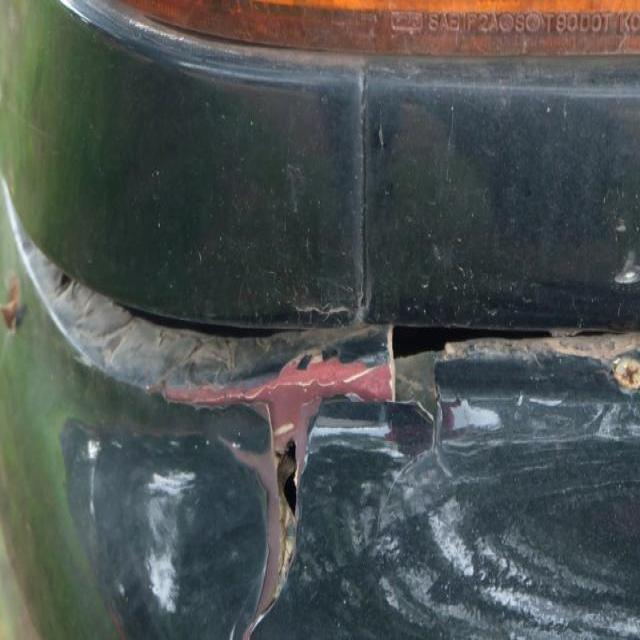Dent: (276, 294, 358, 326), (340, 362, 380, 382), (445, 99, 456, 166), (519, 345, 546, 368), (524, 394, 564, 405), (354, 281, 366, 316), (376, 122, 384, 147), (420, 278, 428, 289)
